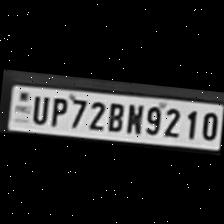0: (197, 108, 220, 140)
1: (180, 106, 200, 140)
2: (84, 96, 107, 132), (160, 104, 184, 138)
7: (66, 94, 88, 130)
9: (140, 102, 162, 134)
B: (104, 98, 125, 132)
N: (122, 100, 145, 134)
P: (47, 94, 70, 128)
U: (28, 91, 50, 124)
